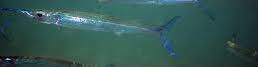sayori: (5, 1, 180, 50)
